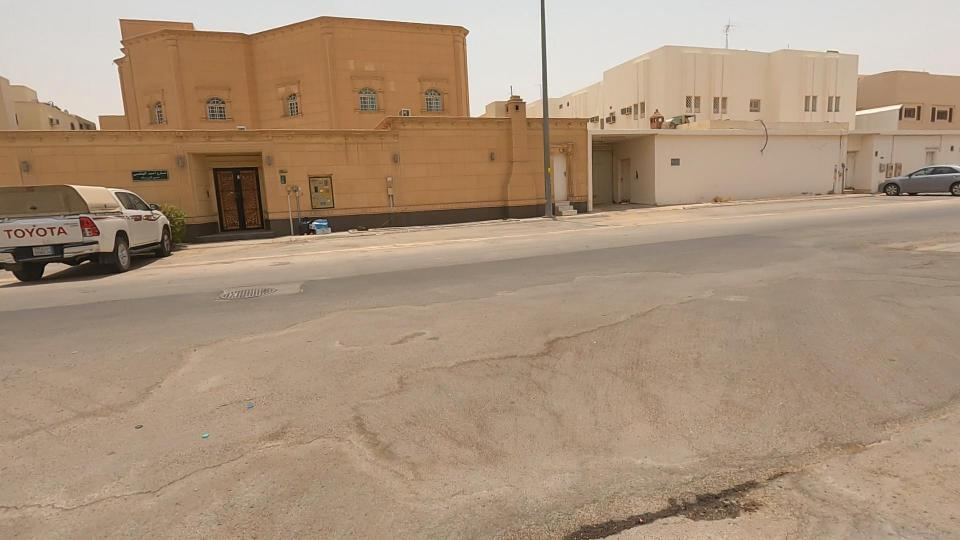GARBAGE: (265, 192, 368, 253)
POTHOLES: (523, 406, 900, 540)
